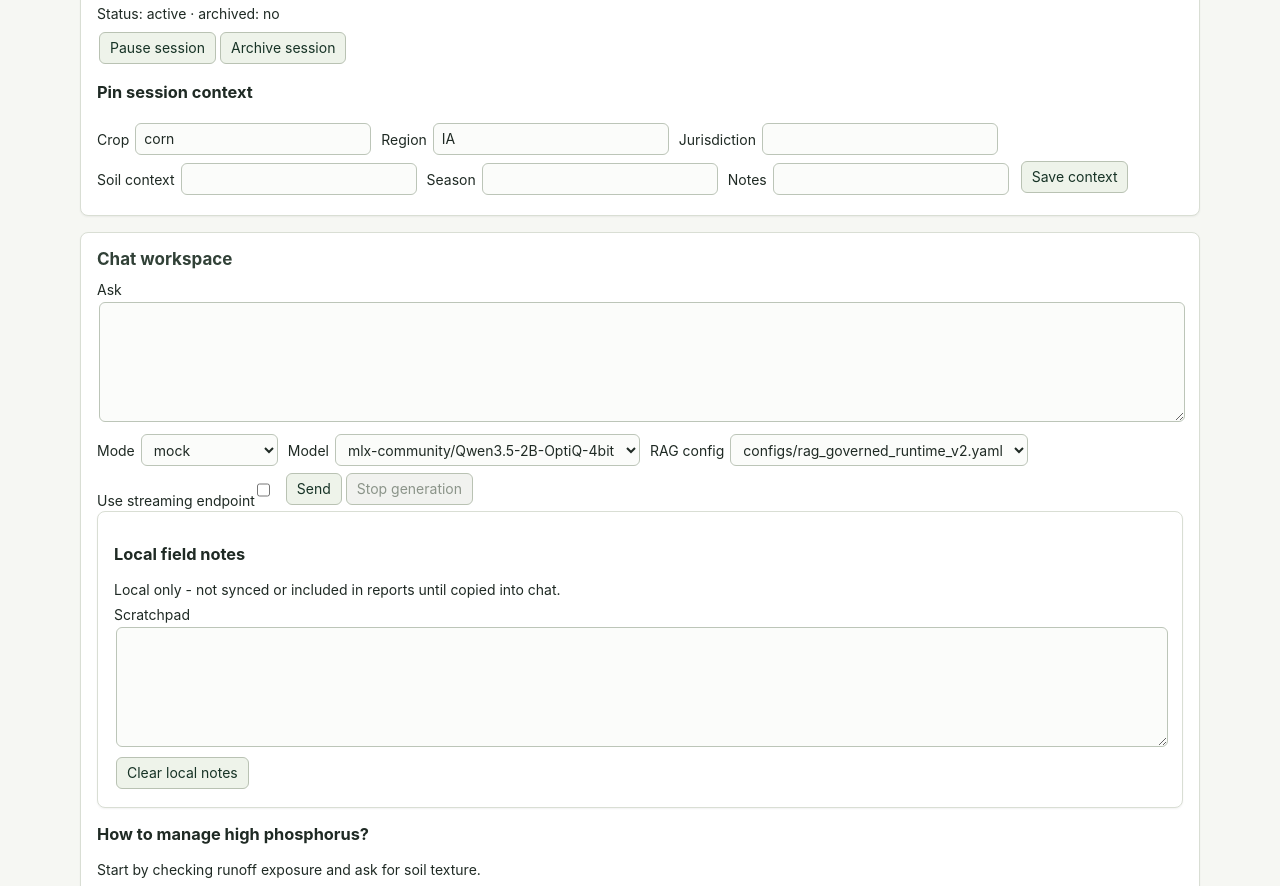
cockpit app › appends new turn from turn endpoint response into visible turn list
(page scrolled)
Select "mock" in the dropdown with test id "mode-select": {"x": 209, "y": 450} [141, 434, 278, 466]
In the text box with test id "chat-input": {"x": 642, "y": 362} [99, 302, 1185, 422], type "How much nitrogen today?"
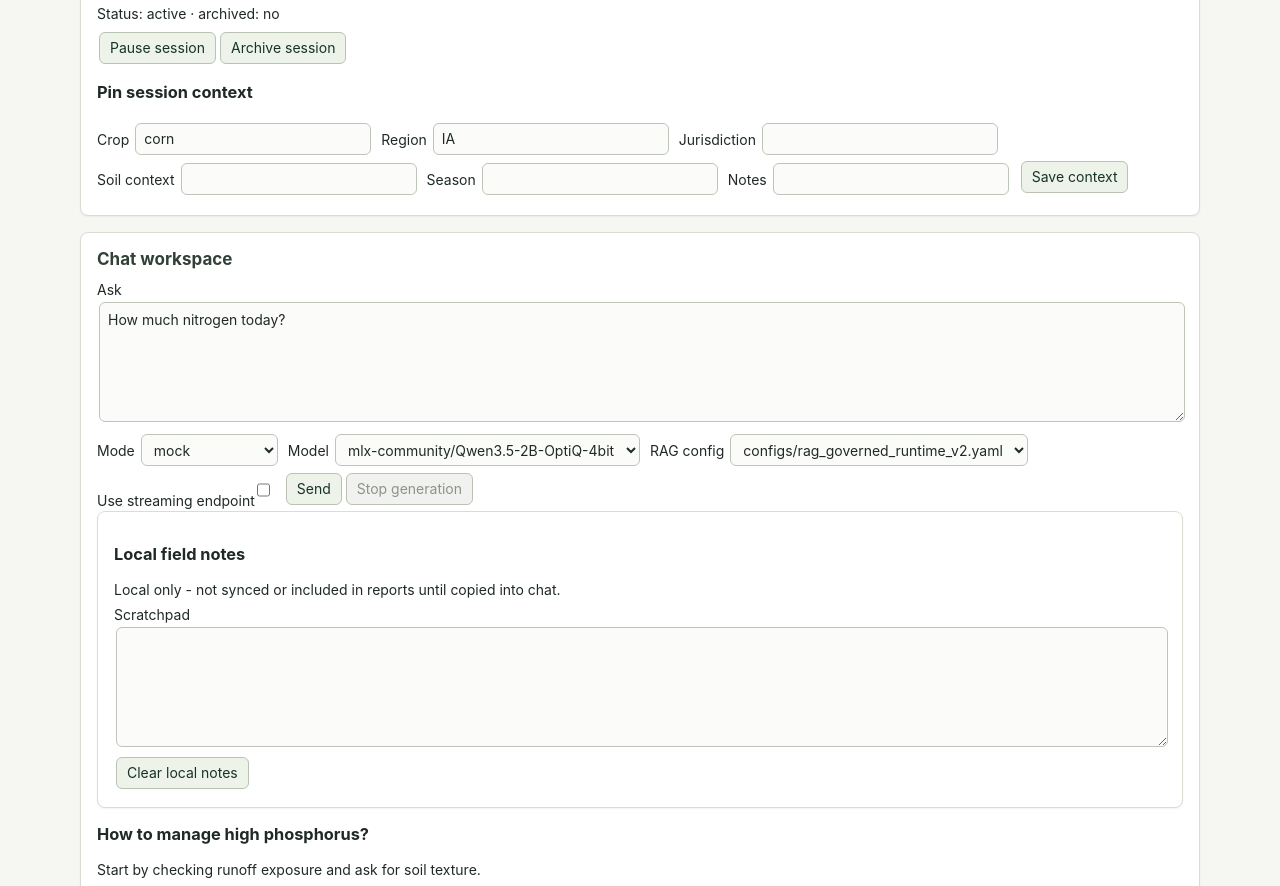
Click the button with test id "send-turn": {"x": 314, "y": 489} [286, 473, 342, 505]
(page scrolled)
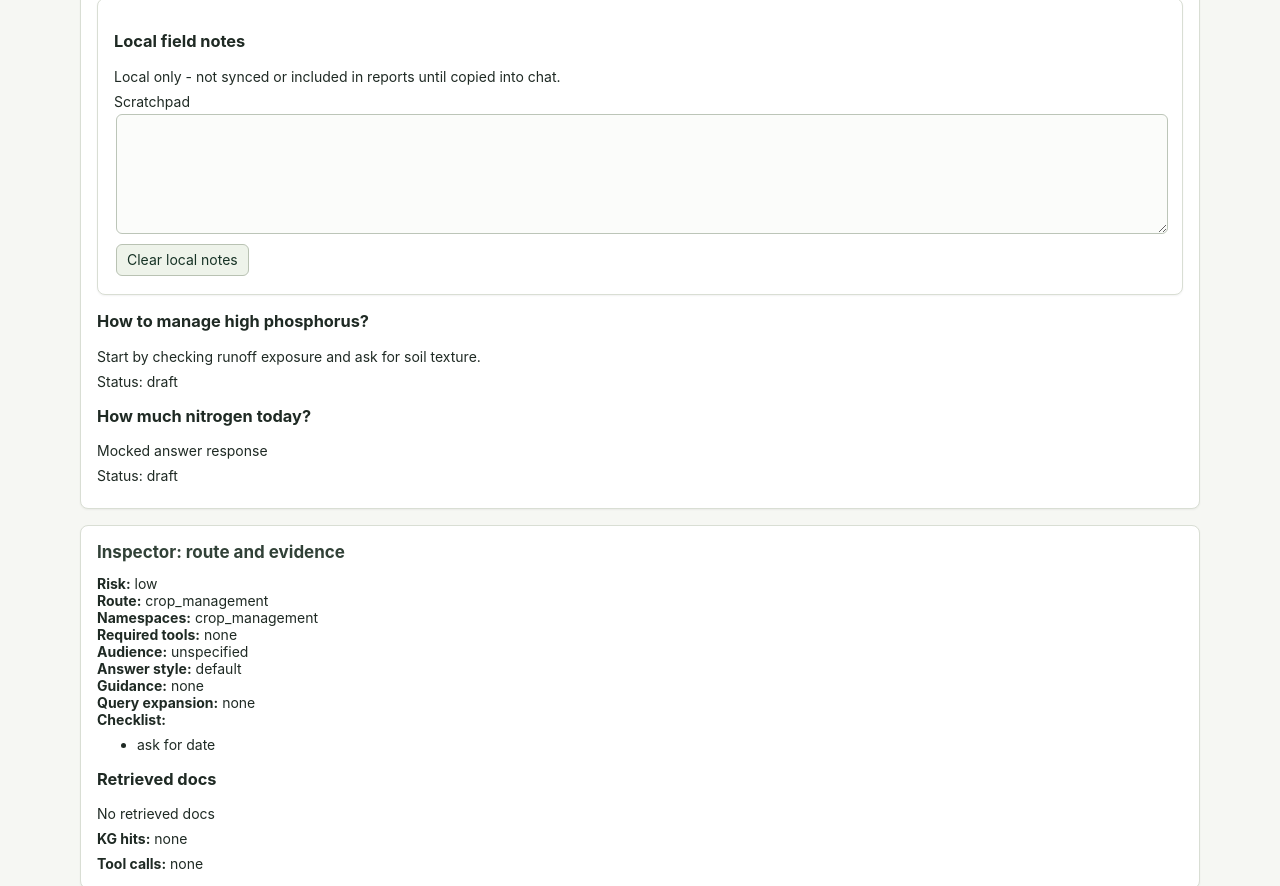
Expected: the heading "How much nitrogen today?" is shown, [97, 406, 311, 426]
Expected: the text "Mocked answer response" is shown, [97, 442, 268, 459]
